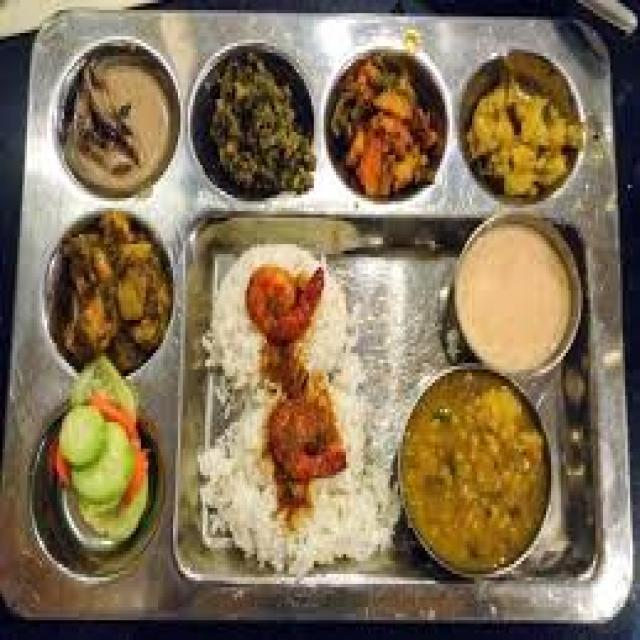dal: (413, 402, 535, 539)
pickle: (184, 56, 320, 194)
rice: (215, 241, 378, 552)
veg: (336, 50, 445, 195)
veg-fry: (44, 211, 171, 368)
